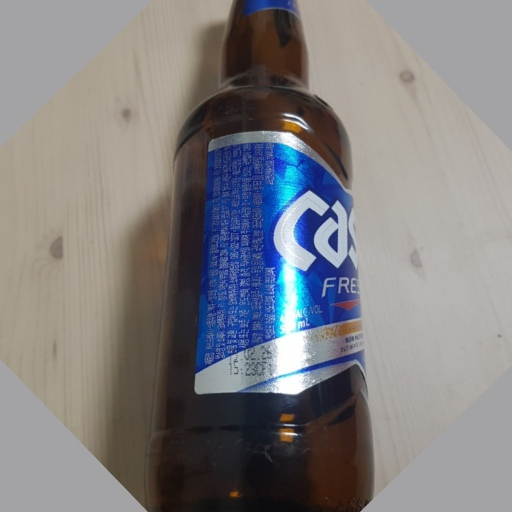Glass_1: (145, 1, 377, 512)
